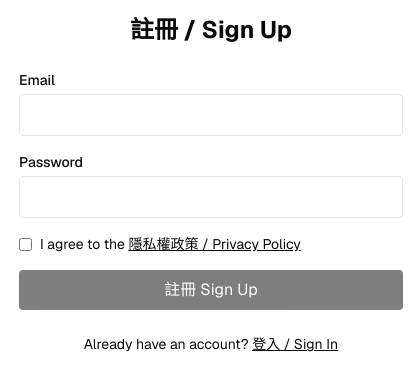
it: SignupPage › successful signup shows email confirmation message
The width and height of the screenshot is (420, 369).
Type "wang.xiaoming@gmail.com" into the field labelled "Email" at {"x": 211, "y": 115}, box [19,94,403,136]
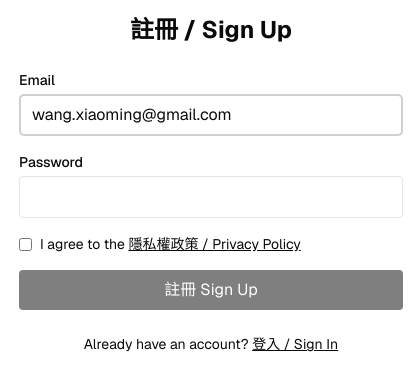
Type "SecurePass123!" into the password field labelled "Password" at {"x": 211, "y": 197}, box [19,176,403,218]
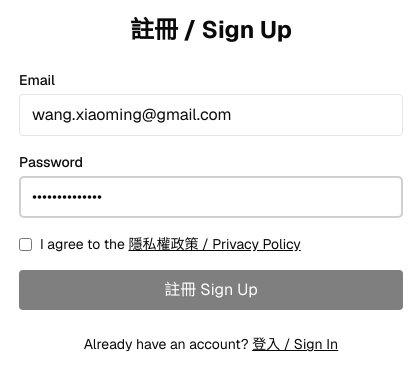
Click the checkbox at {"x": 26, "y": 244}, box [19,238,32,251]
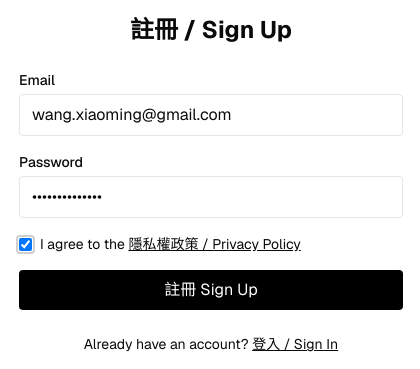
Click the button "註冊 Sign Up" at {"x": 211, "y": 290}, box [19,270,403,310]
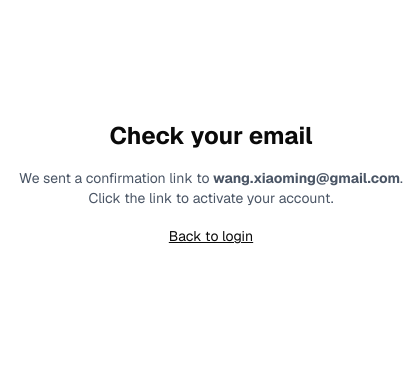
Expected: the heading "Check your email" is shown, [110,120,313,151]
Expected: the text "wang.xiaoming@gmail.com" is shown, [213,169,400,187]
